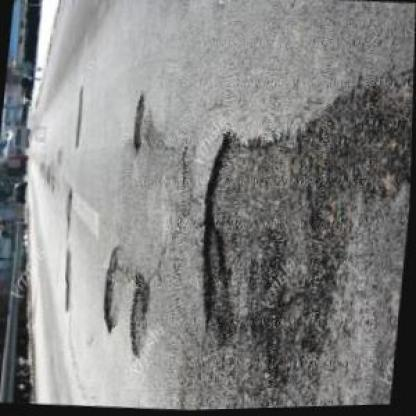pothole: (186, 120, 363, 396), (124, 269, 157, 359), (100, 241, 127, 336), (61, 240, 79, 312), (132, 90, 147, 153), (72, 82, 86, 148), (65, 183, 76, 233), (49, 172, 58, 191)
